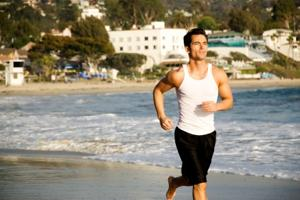person: (152, 28, 234, 200)
